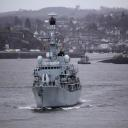Fragata: (32, 12, 83, 112)
